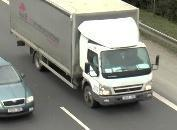Car: (0, 54, 36, 123)
Truck: (9, 1, 160, 109)
